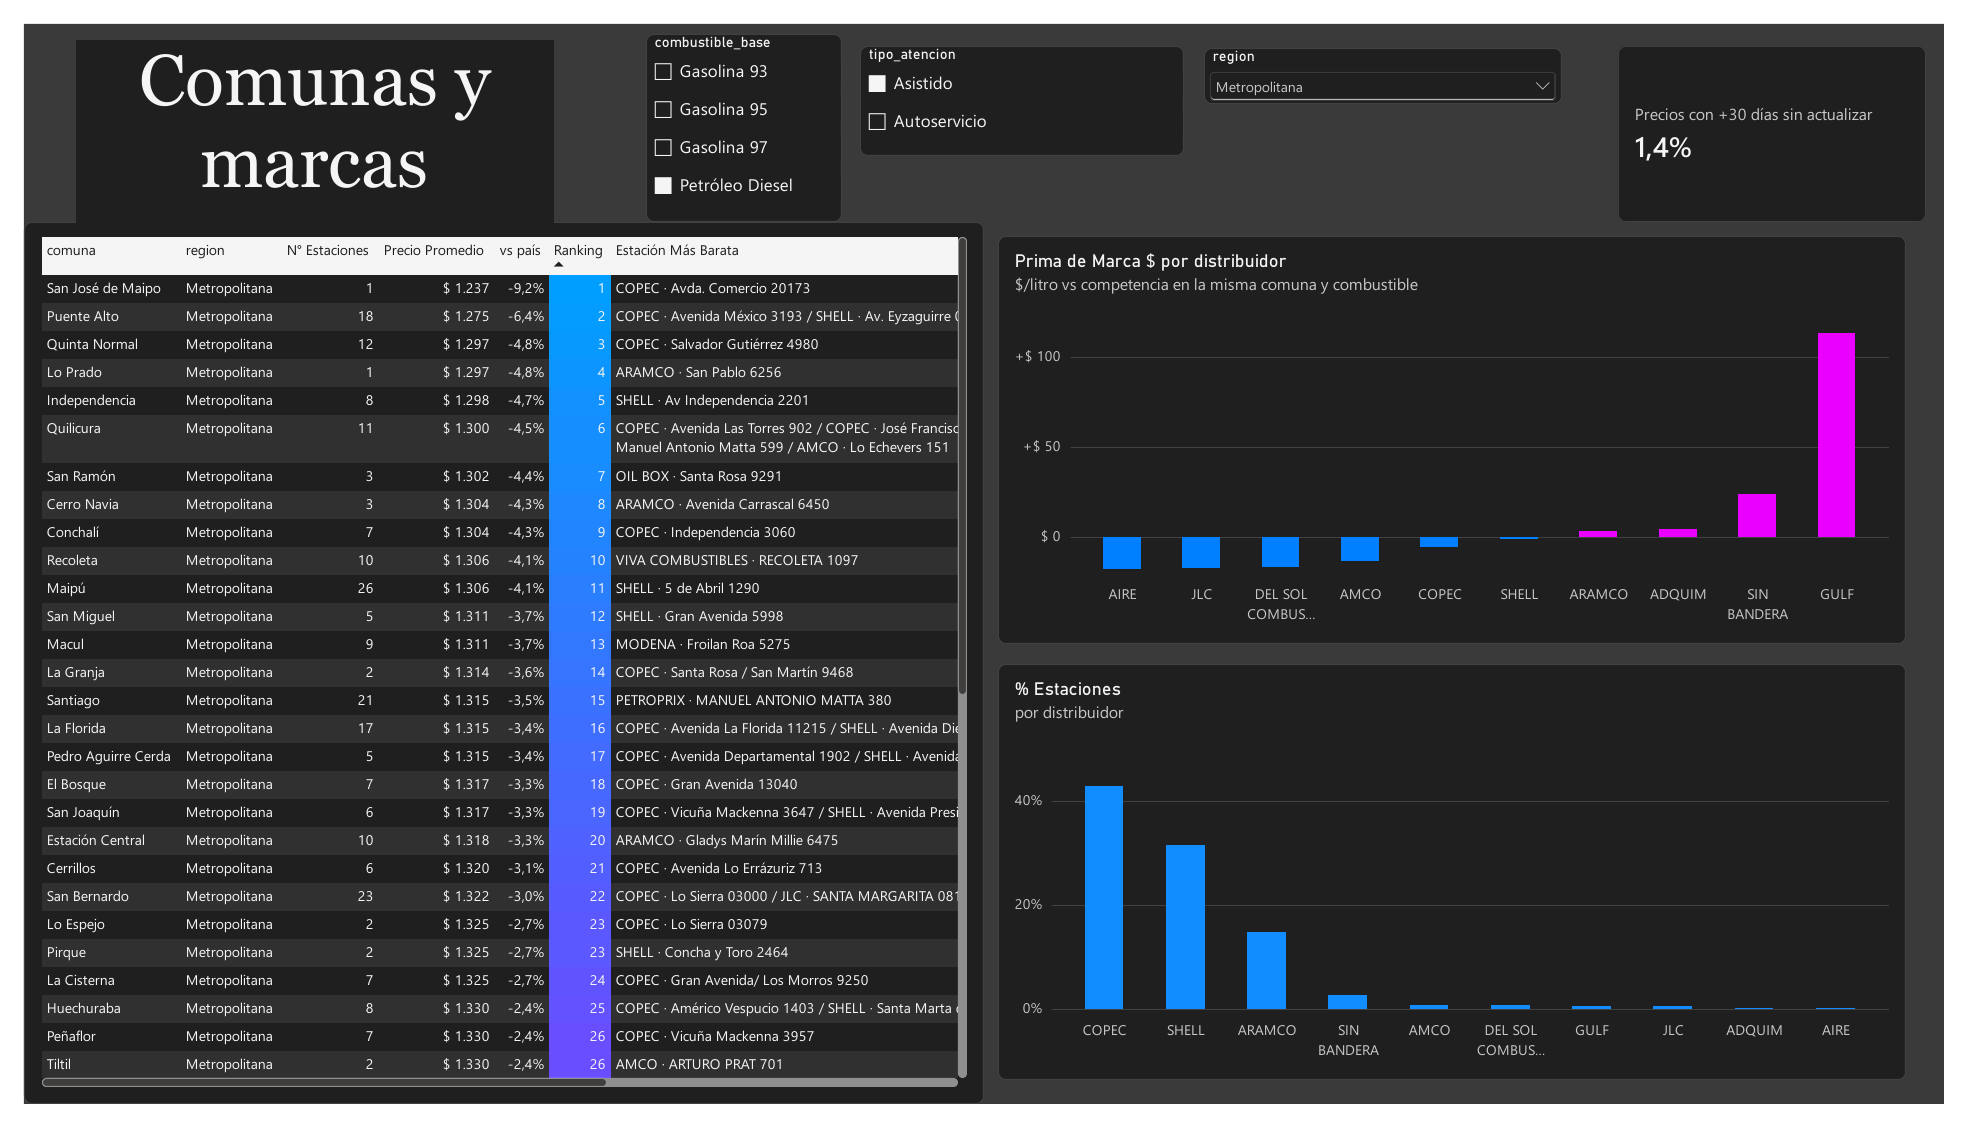

The dashboard page shown, as its layout file describes it:
{"tool":"powerbi","page":{"name":"Página 2","canvas":[1920,1080],"ordinal":1},"visuals":[{"type":"tableEx","fields":{"Values":["dim_Comuna.comuna","dim_Comuna.region","_Medidas.N° Estaciones","_Medidas.Precio Promedio","_Medidas.Dif vs Nacional %","_Medidas.Ranking Comuna (1 = más barata)","_Medidas.Estación Más Barata"]},"box":[0,198,960,882],"z":1000},{"type":"columnChart","fields":{"Category":["dim_Estacion.distribuidor"],"Y":["_Medidas.% Estaciones"]},"box":[974,640,908,416],"z":2000},{"type":"columnChart","fields":{"Category":["dim_Estacion.distribuidor"],"Y":["_Medidas.Prima de Marca $"]},"box":[974,212,908,408],"z":3000},{"type":"cardVisual","fields":{"Data":["_Medidas.% Precios Desactualizados (>30 días)"]},"box":[1594,22,308,176],"z":4000},{"type":"slicer","fields":{"Values":["dim_Combustible.combustible_base"]},"box":[622,10,196,188],"z":4002},{"type":"slicer","fields":{"Values":["dim_Comuna.region"]},"box":[1180,24,358,56],"z":4003},{"type":"slicer","fields":{"Values":["dim_Combustible.tipo_atencion"]},"box":[836,22,324,110],"z":4004},{"type":"textbox","box":[52,16,478,188],"z":4005}]}

Visuals, with their boxes in screenshot pixels (x1, y1, x2, y2), scaled from the page's 1920x1080 canvas onto the 1968x1128 screenshot:
tableEx - dim_Comuna.comuna x dim_Comuna.region: region(0, 207, 984, 1127)
columnChart - dim_Estacion.distribuidor x _Medidas.% Estaciones: region(998, 668, 1929, 1103)
columnChart - dim_Estacion.distribuidor x _Medidas.Prima de Marca $: region(998, 221, 1929, 648)
cardVisual - _Medidas.% Precios Desactualizados (>30 días): region(1634, 23, 1950, 207)
slicer - dim_Combustible.combustible_base: region(638, 10, 838, 207)
slicer - dim_Comuna.region: region(1210, 25, 1576, 84)
slicer - dim_Combustible.tipo_atencion: region(857, 23, 1189, 138)
textbox: region(53, 17, 543, 213)
